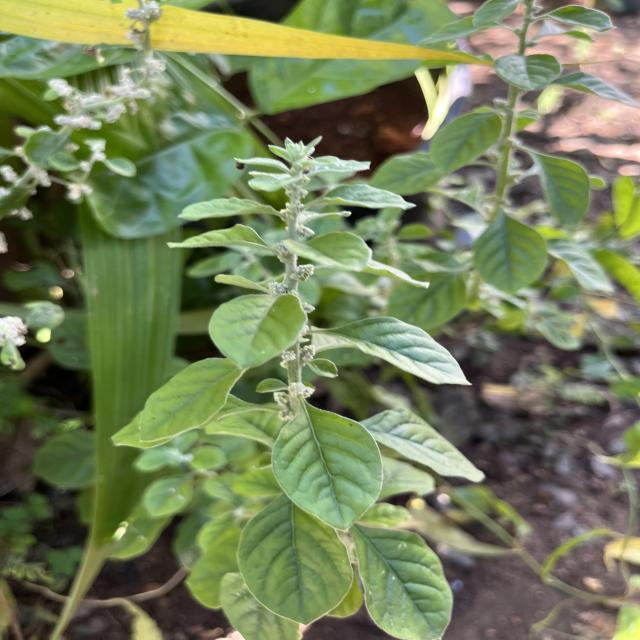Aerva lanata: (269, 396, 386, 534), (234, 500, 356, 628), (345, 524, 458, 640)
